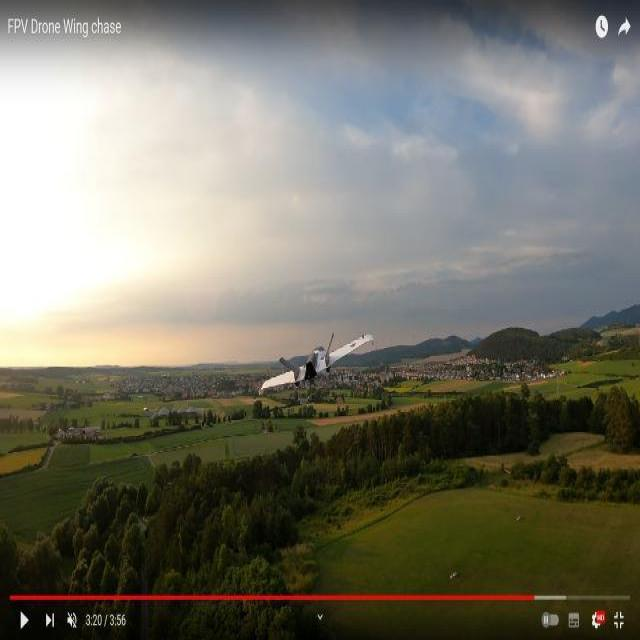UAV: (248, 326, 366, 410)
